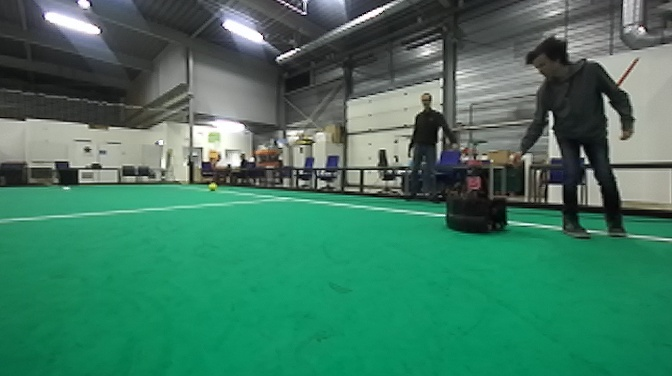ball: (207, 179, 218, 193)
human: (524, 35, 627, 250), (404, 88, 449, 207)
robot: (446, 130, 503, 238)
